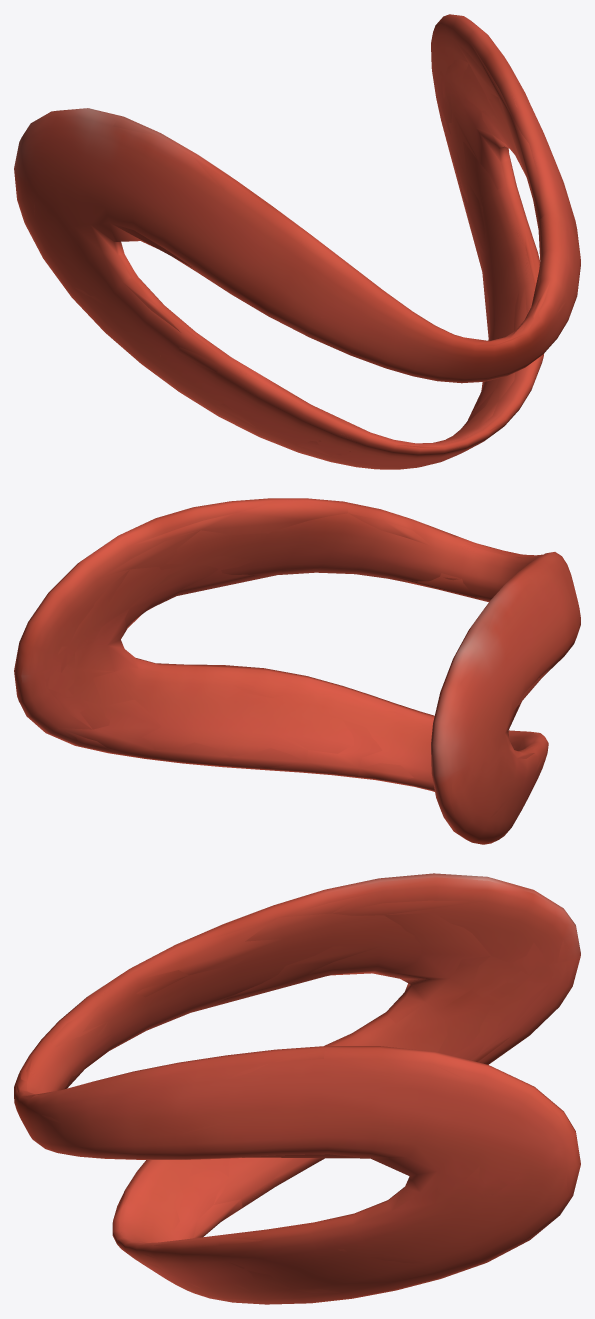
The model's file is orbicularis oris labialis.fbx.
3 renders of one model, top to bottom at view 1: azimuth 30°, elevation 25°; view 2: azimuth 150°, elevation 25°; view 3: azimuth 270°, elevation 25°, orthographic. The views are drawn at different scales.
Parts seen in each view (by area): view 1: orbicularis oris labialis, orbicularis oris labialis low; view 2: orbicularis oris labialis, orbicularis oris labialis low; view 3: orbicularis oris labialis, orbicularis oris labialis low.
Part boxes in pixels (x1,y1,x2,y2): orbicularis oris labialis: [14, 14, 580, 469]; orbicularis oris labialis low: [14, 16, 566, 456]; orbicularis oris labialis: [14, 498, 580, 844]; orbicularis oris labialis low: [16, 498, 576, 842]; orbicularis oris labialis: [14, 873, 580, 1304]; orbicularis oris labialis low: [16, 874, 580, 1304].
Bounding box in the file's own units: 7.63 × 4.98 × 8.34.
1 material, 1 textured.
